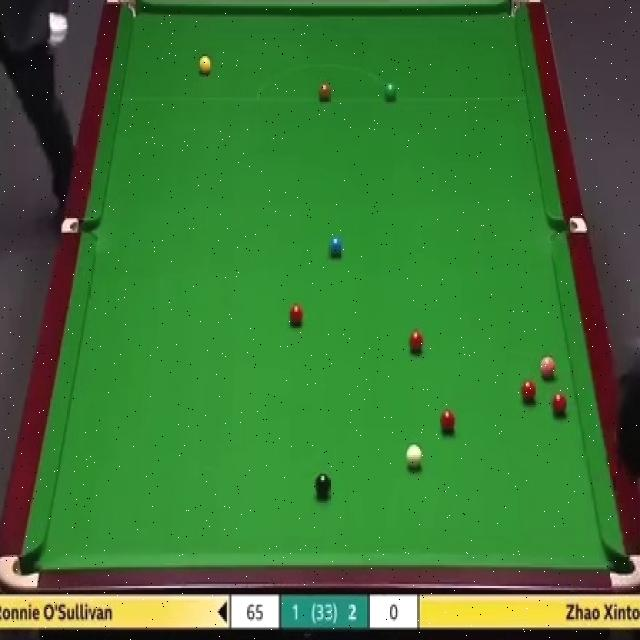black-ball: (316, 473, 331, 496)
blue-ball: (329, 232, 343, 259)
brown-ball: (318, 82, 332, 101)
green-ball: (383, 80, 398, 102)
pink-ball: (539, 356, 555, 379)
red-ball: (438, 411, 456, 436), (407, 331, 425, 354), (550, 392, 566, 414), (521, 378, 537, 398), (289, 302, 303, 324)
white-ball: (406, 444, 422, 474)
yellow-ball: (199, 56, 212, 76)
